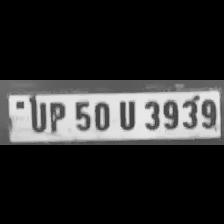0: (90, 97, 114, 130)
3: (180, 96, 200, 130), (140, 97, 160, 130)
5: (68, 98, 92, 132)
9: (160, 97, 180, 130), (198, 96, 218, 128)
P: (45, 99, 67, 133)
U: (114, 97, 138, 130), (25, 100, 48, 132)
